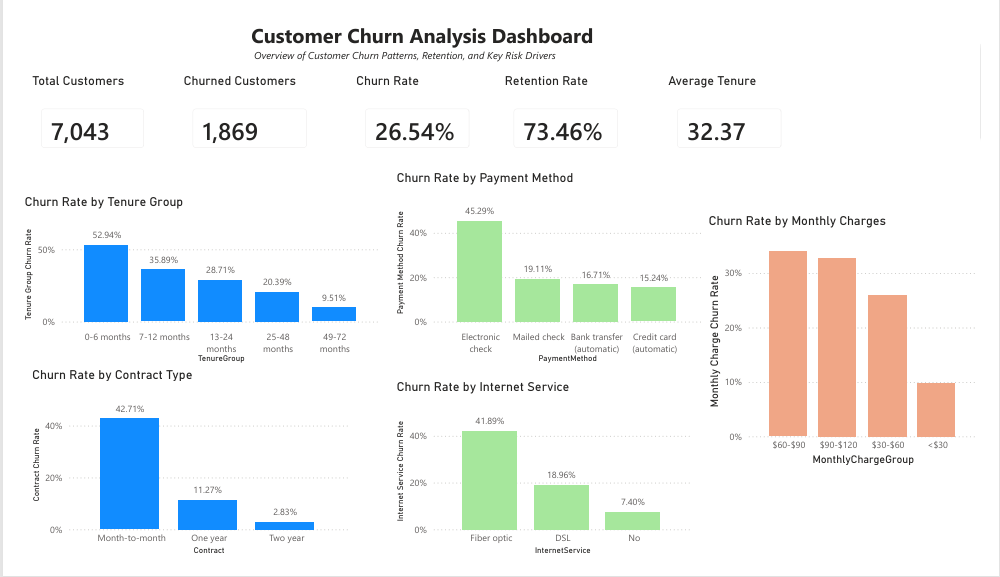

The dashboard page shown, as its layout file describes it:
{"tool":"powerbi","page":{"name":"Page 1","canvas":[1280,720],"ordinal":0},"visuals":[{"type":"cardVisual","title":"Total Customers","fields":{"Data":["telco_churn_analysis_ready.Total Customers Display"]},"box":[10.1,73.9,171.3,115.9],"z":0},{"type":"cardVisual","title":"Churned Customers","fields":{"Data":["telco_churn_analysis_ready.Churned Customers Display"]},"box":[211.7,73.9,186.5,115.9],"z":1000},{"type":"cardVisual","title":"Churn Rate","fields":{"Data":["telco_churn_analysis_ready.Churn Rate"]},"box":[441.8,73.9,173,115.9],"z":2000},{"type":"cardVisual","title":"Retention Rate","fields":{"Data":["telco_churn_analysis_ready.Retention Rate"]},"box":[640,73.9,173,115.9],"z":3000},{"type":"cardVisual","title":"Average Tenure","fields":{"Data":["telco_churn_analysis_ready.Average Tenure"]},"box":[858.4,73.9,173,115.9],"z":4000},{"type":"clusteredColumnChart","title":"Churn Rate by Tenure Group","fields":{"Category":["telco_churn_analysis_ready.TenureGroup"],"Y":["telco_churn_analysis_ready.Tenure Group Churn Rate"]},"box":[0,235.2,483.8,230.1],"z":5000},{"type":"clusteredColumnChart","title":"Churn Rate by Contract Type","fields":{"Category":["telco_churn_analysis_ready.Contract"],"Y":["telco_churn_analysis_ready.Contract Churn Rate"]},"box":[10.1,465.3,431.7,255.3],"z":6000},{"type":"clusteredColumnChart","title":"Churn Rate by Payment Method","fields":{"Category":["telco_churn_analysis_ready.PaymentMethod"],"Y":["telco_churn_analysis_ready.Payment Method Churn Rate"]},"box":[495.5,203.3,416.6,262],"z":7000},{"type":"clusteredColumnChart","title":"Churn Rate by Internet Service","fields":{"Category":["telco_churn_analysis_ready.InternetService"],"Y":["telco_churn_analysis_ready.Internet Service Churn Rate"]},"box":[495.5,482.1,403.1,238.5],"z":8000},{"type":"clusteredColumnChart","title":"Churn Rate by Monthly Charges","fields":{"Category":["telco_churn_analysis_ready.MonthlyChargeGroup"],"Y":["telco_churn_analysis_ready.Monthly Charge Churn Rate"]},"box":[912.1,260.4,367.9,341],"z":8001},{"type":"textbox","box":[302.4,0,675.3,73.9],"z":8002}]}

Visuals, with their boxes in screenshot pixels (x1, y1, x2, y2), scaled from the page's 1280x720 canvas onto the 1000x577 screenshot:
"Total Customers" cardVisual: <region>8, 59, 142, 152</region>
"Churned Customers" cardVisual: <region>165, 59, 311, 152</region>
"Churn Rate" cardVisual: <region>345, 59, 480, 152</region>
"Retention Rate" cardVisual: <region>500, 59, 635, 152</region>
"Average Tenure" cardVisual: <region>671, 59, 806, 152</region>
"Churn Rate by Tenure Group" clusteredColumnChart: <region>0, 188, 378, 373</region>
"Churn Rate by Contract Type" clusteredColumnChart: <region>8, 373, 345, 576</region>
"Churn Rate by Payment Method" clusteredColumnChart: <region>387, 163, 713, 373</region>
"Churn Rate by Internet Service" clusteredColumnChart: <region>387, 386, 702, 576</region>
"Churn Rate by Monthly Charges" clusteredColumnChart: <region>713, 209, 999, 482</region>
textbox: <region>236, 0, 764, 59</region>
